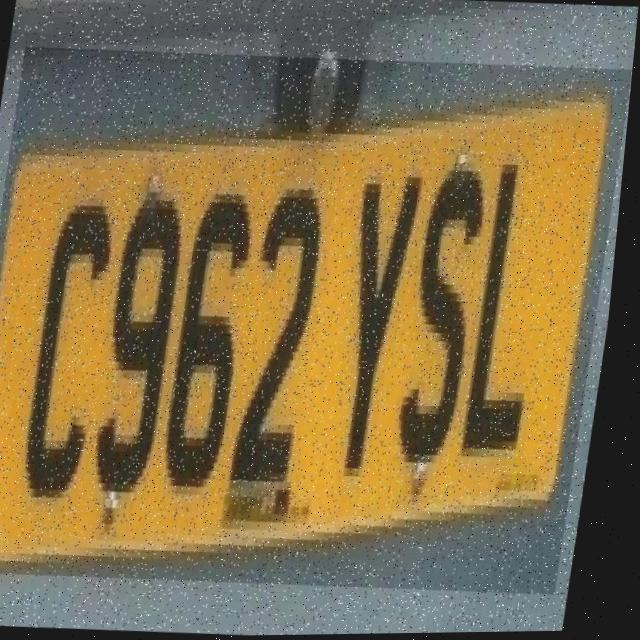LicensePlate: (0, 40, 636, 603)
